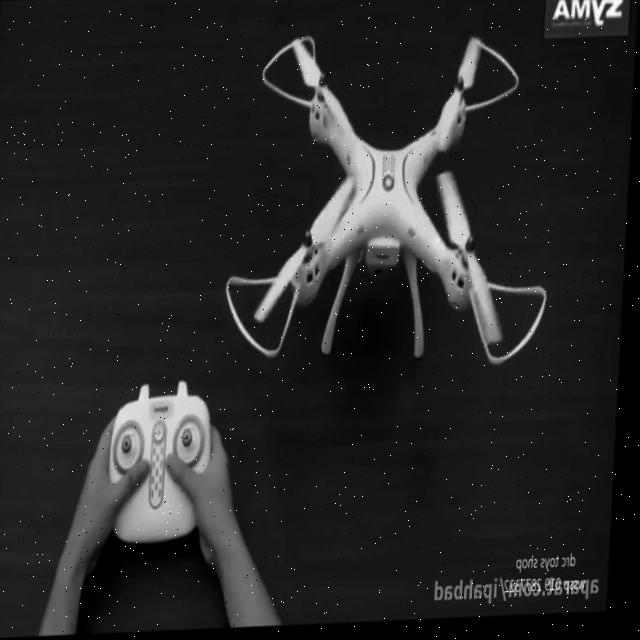drone: (223, 21, 563, 383)
